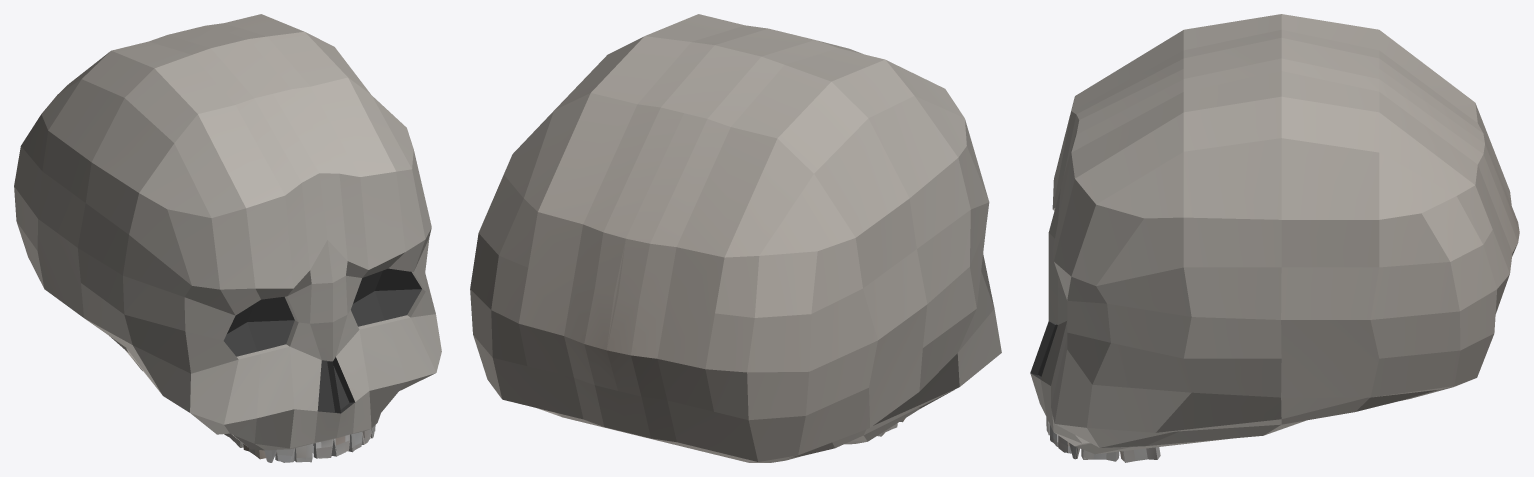
Rendered from Skull.fbx.
3 renders of one model, left to right at view 1: azimuth 30°, elevation 25°; view 2: azimuth 150°, elevation 25°; view 3: azimuth 270°, elevation 25°, orthographic. The views are drawn at different scales.
Visible parts, largest first — view 1: Cube.001; view 2: Cube.001; view 3: Cube.001.
Part boxes in pixels (x1,y1,x2,y2): Cube.001: [14, 14, 441, 462]; Cube.001: [470, 14, 1001, 462]; Cube.001: [1030, 14, 1519, 462].
Bounding box in the file's own units: 310 × 330 × 383.
2 materials, 1 textured.
